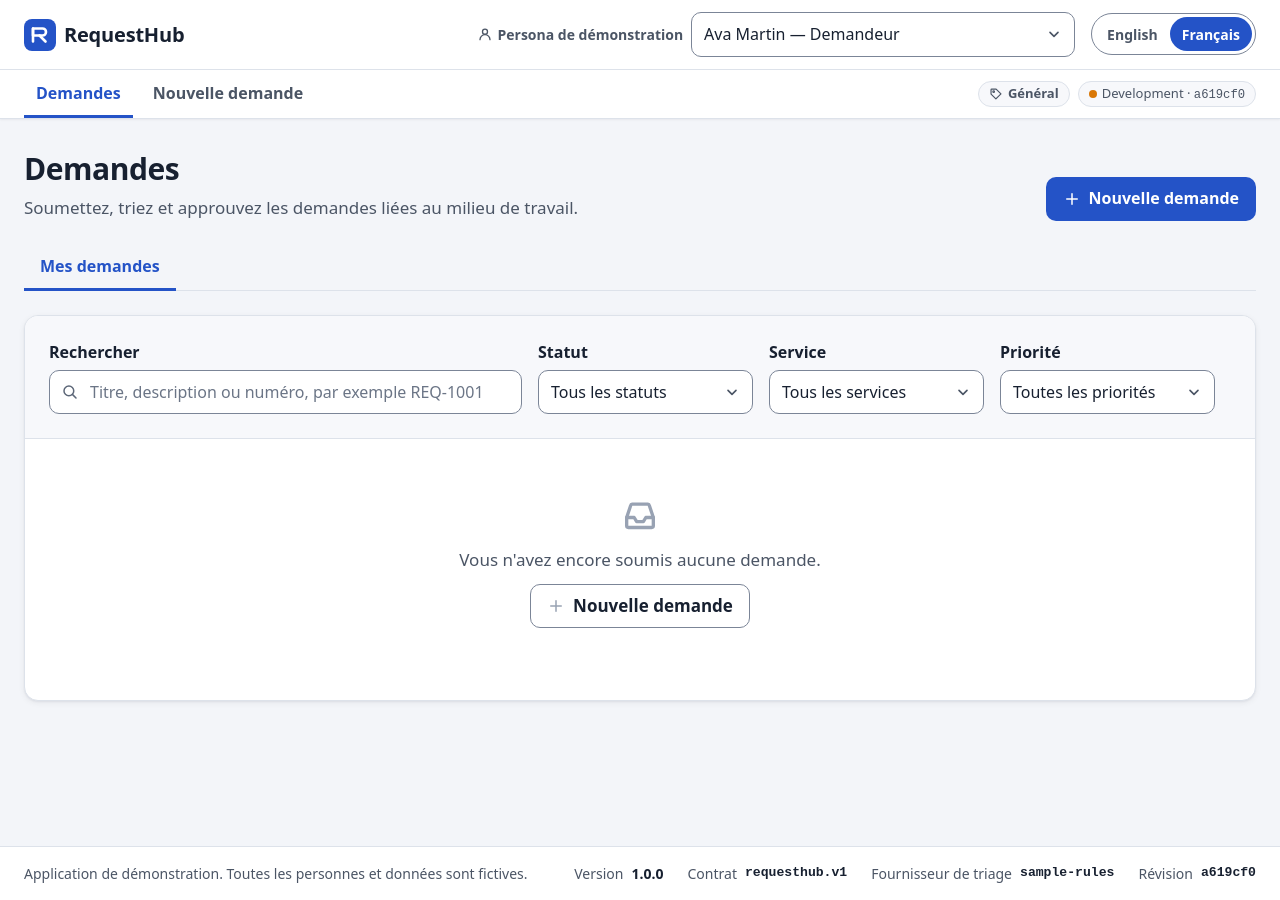
i18n › uses the server default locale until the user picks a language, then remembers the choice
The image size is (1280, 900).
Check: the heading "Demandes" is shown, box x1=24 y1=148 x2=179 y2=189
Click the button "English": x=1132, y=34 x1=1095 y1=18 x2=1170 y2=52
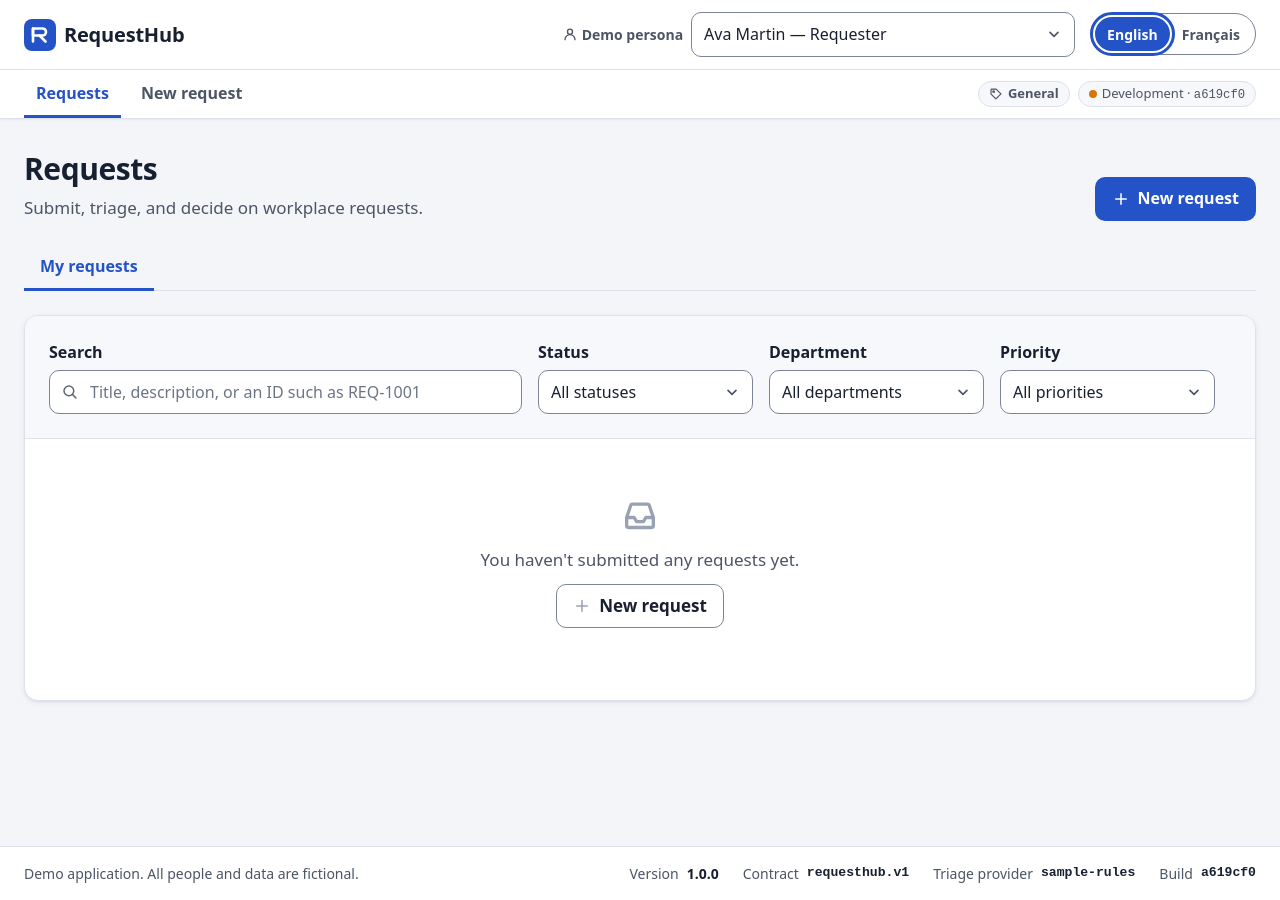
Check: the heading "Requests" is shown, box x1=24 y1=148 x2=157 y2=189
